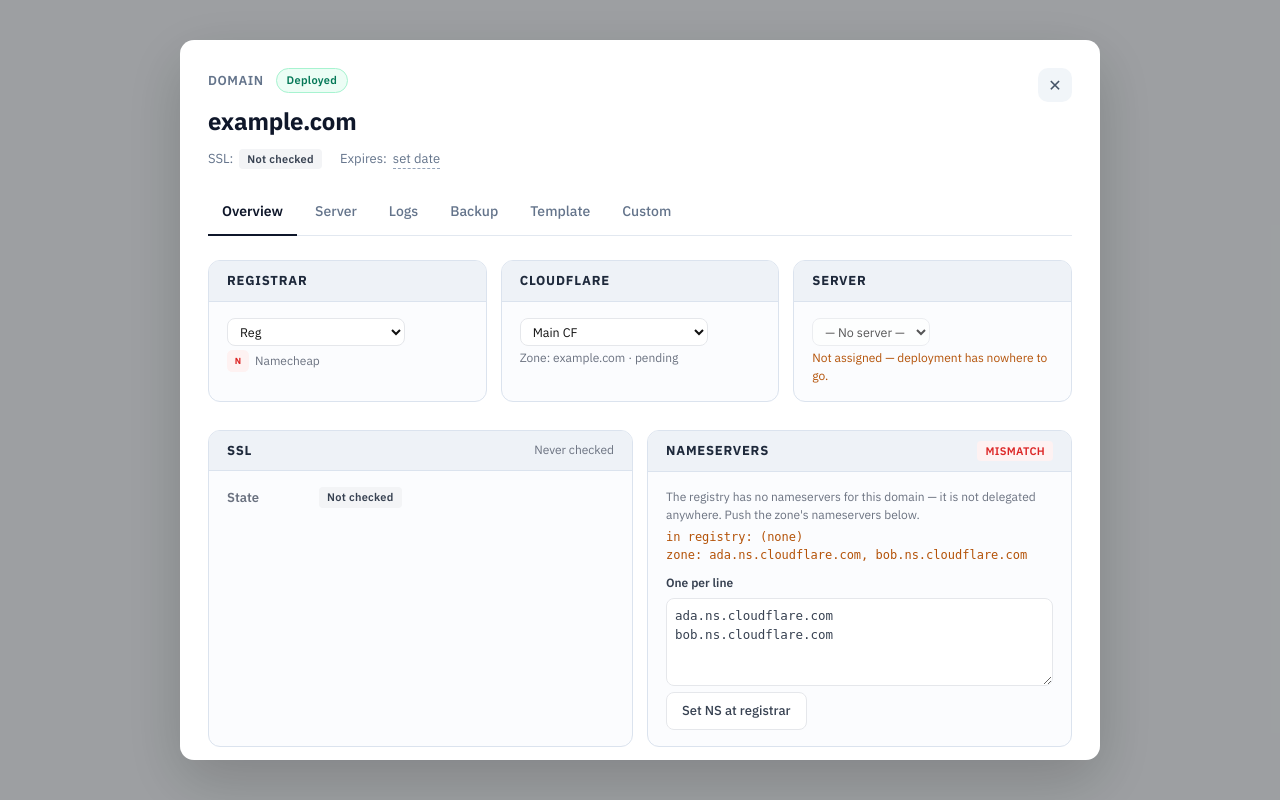
Test case: Set NS — пустые и ошибочные случаи › показывает отказ регистратора, а не проглатывает его
The image size is (1280, 800).
What coordinates should you click on to do the following:
click the button "Set NS at registrar"
I would click on:
 (736, 711)
Its box is [666,692,806,730].
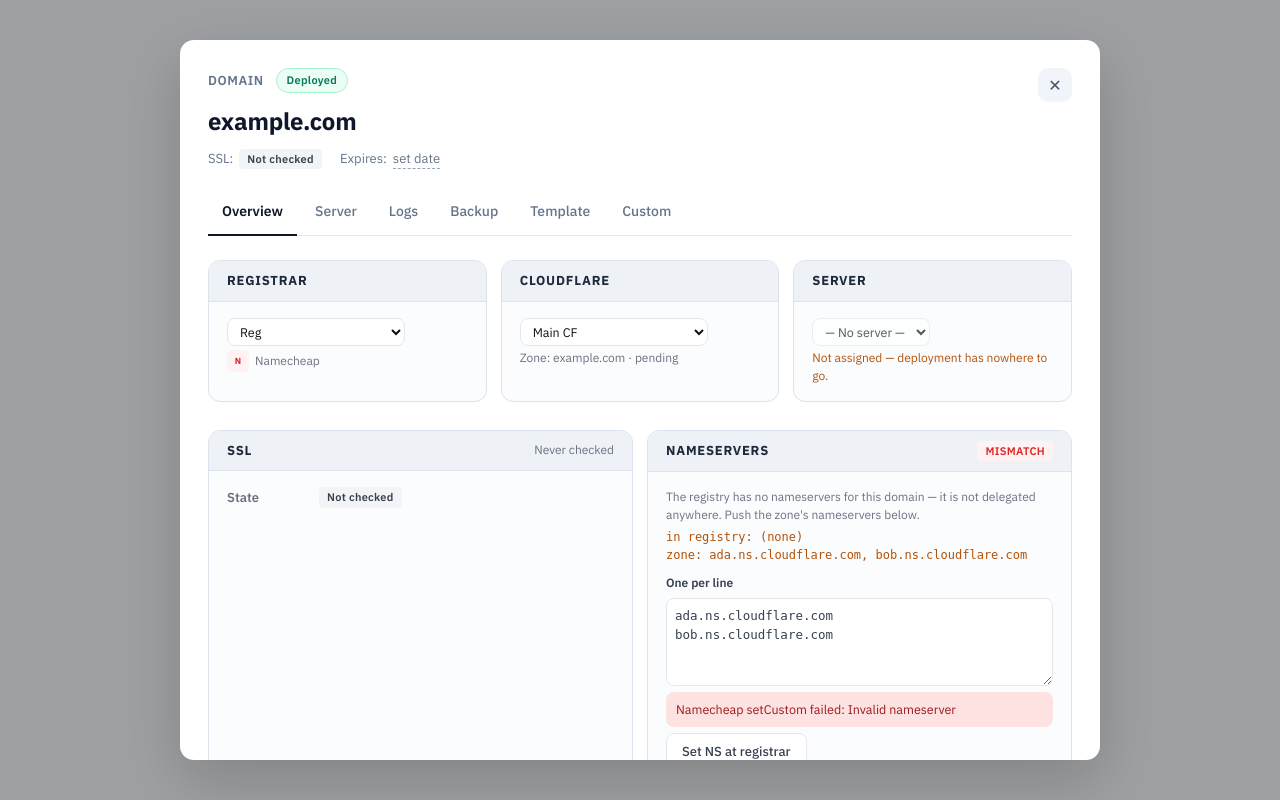
Expected: the text "Namecheap setCustom failed: Invalid nameserver" is shown, [666,692,1053,727]
